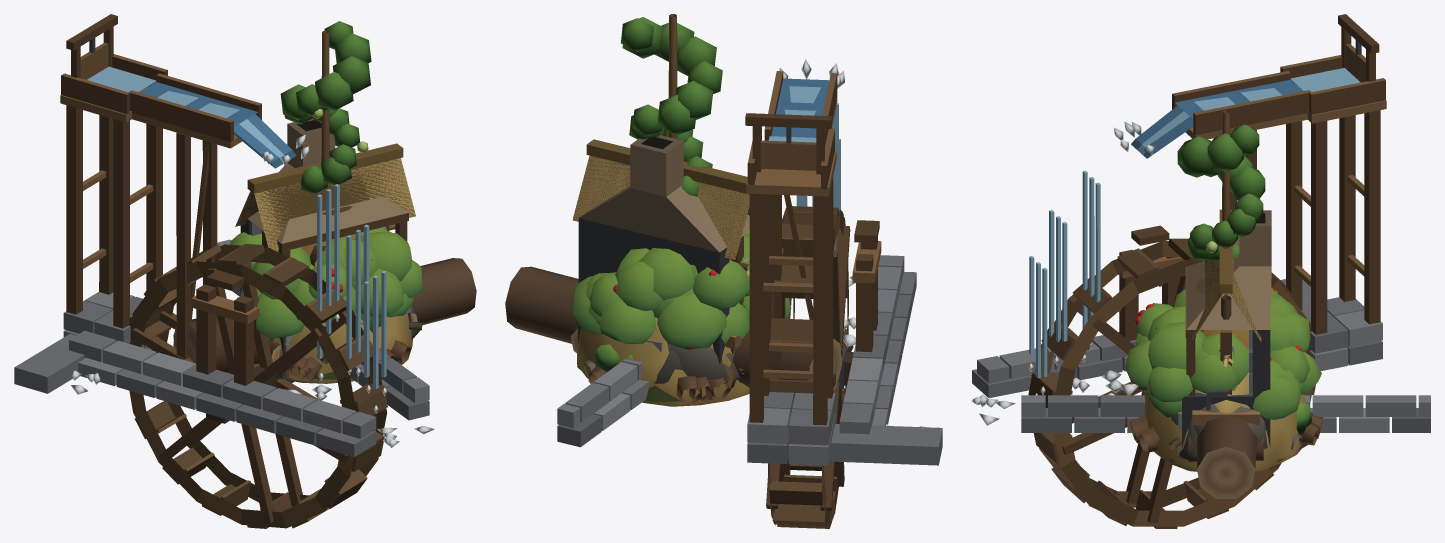
The model's file is props3d.glb.
The picture shows the model from 3 angles, left to right: view 1: azimuth 30°, elevation 25°; view 2: azimuth 150°, elevation 25°; view 3: azimuth 270°, elevation 25°; orthographic projection. The views are drawn at different scales.
Visible parts, largest first — view 1: mlynowka, kolo_mlynskie, chmiel, studnia, piec, dluzyca_pozioma, krzew_galezisty_jagodowy_2, krzew_galezisty_2, stog_siana, krzew_galezisty_jagodowy, krzew_galezisty, wierzba_pniak_swiezy; view 2: mlynowka, piec, kolo_mlynskie, chmiel, studnia, dluzyca_pozioma, krzew_galezisty_jagodowy_2, stog_siana, krzew_galezisty_jagodowy, krzew_galezisty_2, krzew_galezisty, kamien_glaz_3 (+3 smaller); view 3: mlynowka, kolo_mlynskie, piec, chmiel, dluzyca_pozioma, krzew_galezisty_2, krzew_galezisty_jagodowy, stog_siana, krzew_galezisty_jagodowy_2, krzew_galezisty, studnia, stol_imadlo (+2 smaller).
Boxes of the visible parts, x1,y1,x2,y2 form: mlynowka: (14, 14, 434, 457); kolo_mlynskie: (129, 243, 387, 528); chmiel: (280, 21, 371, 194); studnia: (235, 143, 415, 324); piec: (240, 118, 411, 354); dluzyca_pozioma: (173, 258, 476, 373); krzew_galezisty_jagodowy_2: (230, 232, 403, 337); krzew_galezisty_2: (240, 232, 411, 299); stog_siana: (271, 312, 412, 383); krzew_galezisty_jagodowy: (239, 227, 423, 322); krzew_galezisty: (293, 236, 414, 317); wierzba_pniak_swiezy: (298, 340, 411, 381); mlynowka: (557, 59, 942, 465); piec: (578, 135, 749, 385); kolo_mlynskie: (766, 206, 853, 528); chmiel: (621, 14, 722, 196); studnia: (572, 139, 749, 352); dluzyca_pozioma: (505, 266, 842, 390); krzew_galezisty_jagodowy_2: (586, 231, 791, 321); stog_siana: (577, 305, 749, 406); krzew_galezisty_jagodowy: (589, 259, 731, 349); krzew_galezisty_2: (586, 233, 749, 343); krzew_galezisty: (572, 261, 745, 334); kamien_glaz_3: (667, 343, 727, 383); mlynowka: (971, 14, 1430, 432); kolo_mlynskie: (1028, 238, 1315, 528); piec: (1178, 210, 1271, 454); chmiel: (1177, 110, 1265, 261); dluzyca_pozioma: (1197, 415, 1256, 498); krzew_galezisty_2: (1148, 288, 1321, 394); krzew_galezisty_jagodowy: (1136, 309, 1310, 402); stog_siana: (1144, 372, 1305, 471); krzew_galezisty_jagodowy_2: (1125, 287, 1297, 388); krzew_galezisty: (1146, 306, 1310, 419); studnia: (1191, 209, 1261, 410); stol_imadlo: (1192, 410, 1259, 425).
Bounding box in the file's own units: 33.14 × 34.1 × 31.27.
